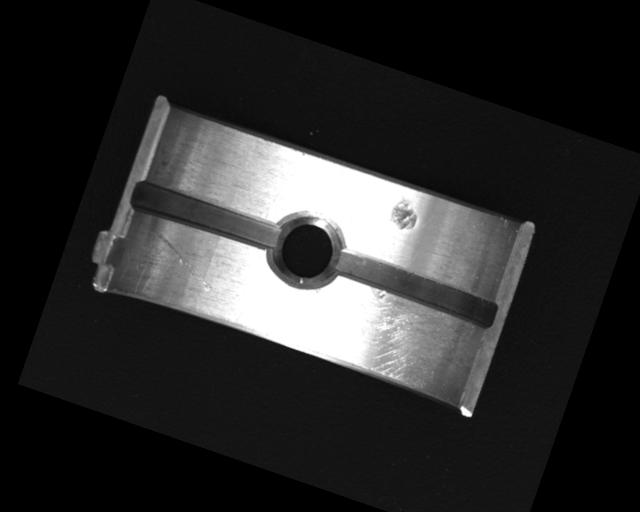bruise: (386, 195, 423, 235)
gap: (326, 244, 500, 332), (128, 176, 284, 256)
hole: (261, 202, 351, 296)
nick: (139, 226, 224, 294)
scratch: (304, 273, 480, 404)
